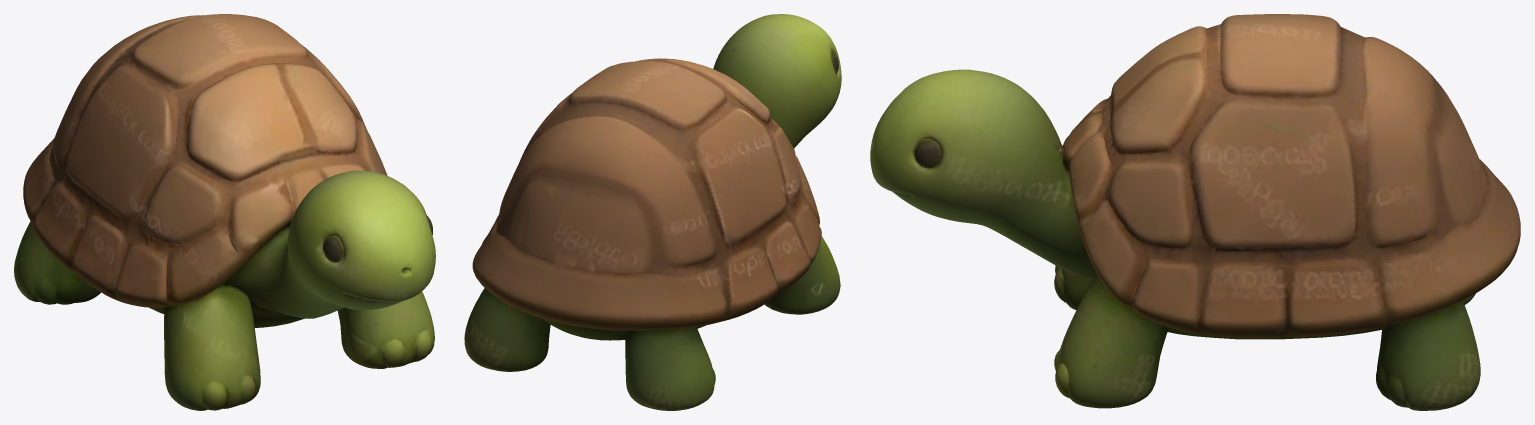
File: turtle_pbr.glb
The picture shows the model from 3 angles, left to right: view 1: azimuth 30°, elevation 25°; view 2: azimuth 150°, elevation 25°; view 3: azimuth 270°, elevation 25°; orthographic projection. The views are drawn at different scales.
Visible parts, largest first — view 1: model; view 2: model; view 3: model.
Part boxes in pixels (x1,y1,x2,y2): model: [14, 14, 435, 410]; model: [464, 14, 841, 410]; model: [870, 14, 1520, 410].
Bounding box in the file's own units: 1.05 × 0.9617 × 1.78.
Materials: 1 (1 with a texture image).
